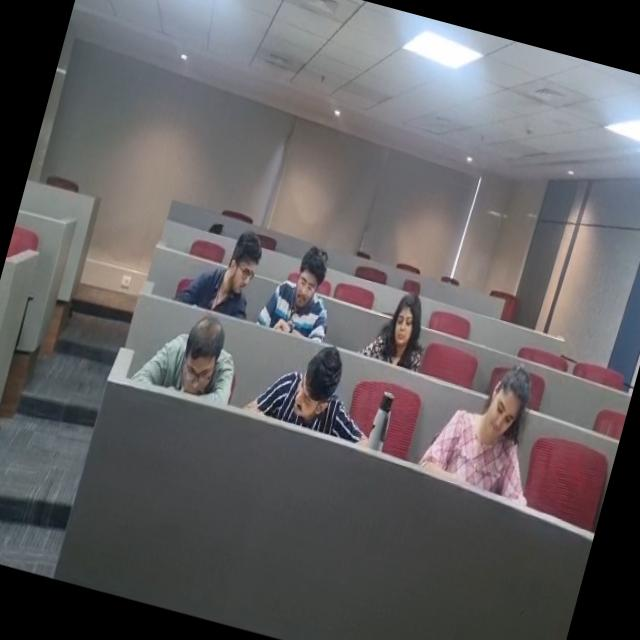cheating: (235, 323, 374, 451), (443, 350, 552, 502), (152, 305, 252, 408), (190, 207, 276, 323)
non-cheating: (266, 225, 344, 342), (360, 284, 440, 369)
